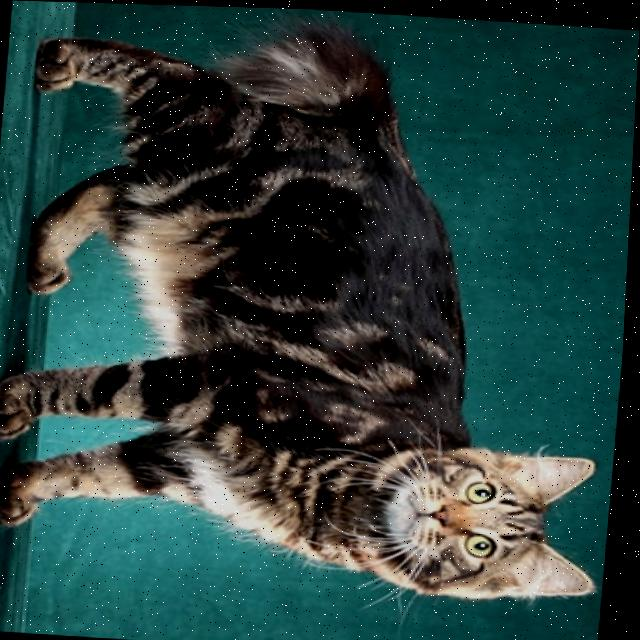American Bobtail: (0, 6, 640, 612)
